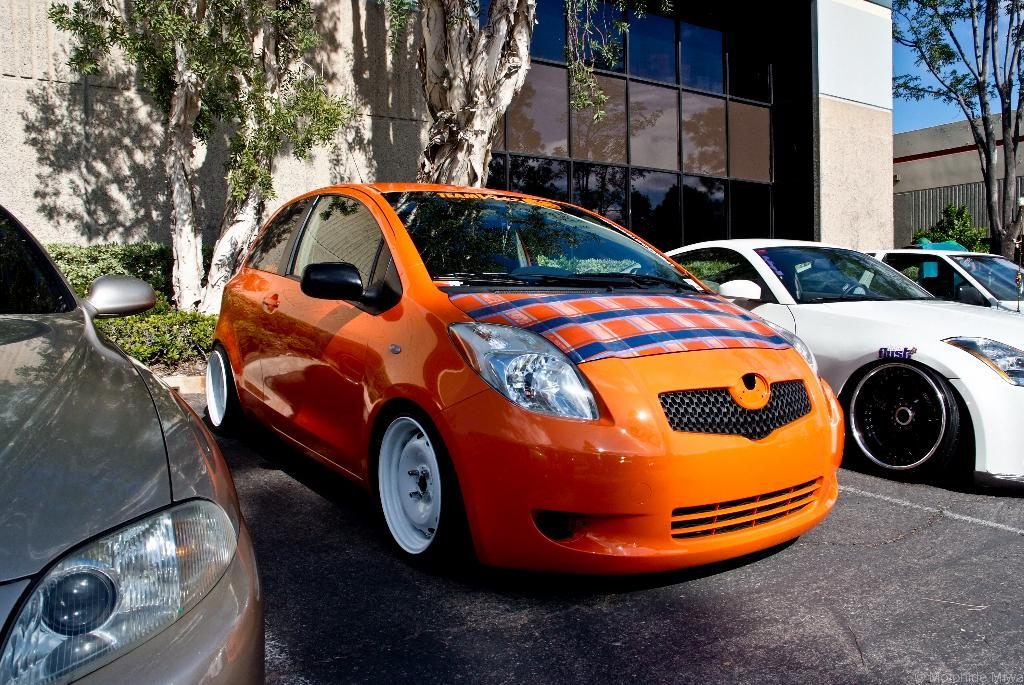cars: (187, 173, 869, 586), (0, 192, 263, 684), (623, 238, 1023, 485), (855, 249, 1023, 309)
